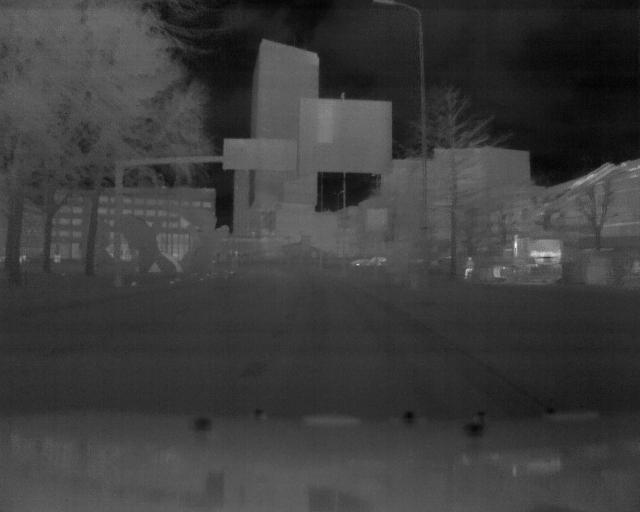car: (478, 232, 565, 287)
person: (462, 253, 476, 281)
